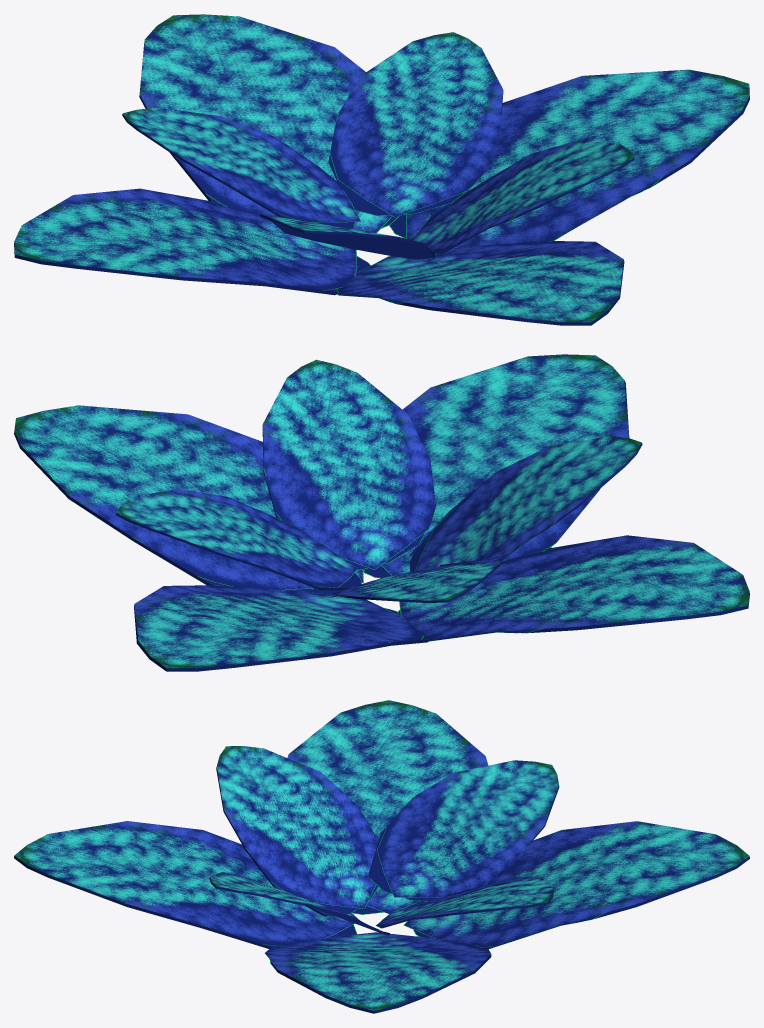
The model's file is Veg2.FBX.
The picture shows the model from 3 angles, top to bottom: view 1: azimuth 30°, elevation 25°; view 2: azimuth 150°, elevation 25°; view 3: azimuth 270°, elevation 25°; orthographic projection. The views are drawn at different scales.
Parts seen in each view (by area): view 1: Plane004, Plane007, Plane002, Plane003, Plane001, Plane005, Plane006, Plane008; view 2: Plane006, Plane004, Plane003, Plane001, Plane002, Plane008, Plane007, Plane005; view 3: Plane001, Plane002, Plane008, Plane005, Plane003, Plane004, Plane007, Plane006.
Boxes of the visible parts, x1,y1,x2,y2 form: Plane004: [389, 69, 749, 247]; Plane007: [328, 32, 503, 217]; Plane002: [139, 14, 399, 232]; Plane003: [14, 188, 370, 295]; Plane001: [336, 241, 624, 325]; Plane005: [122, 107, 361, 228]; Plane006: [410, 140, 634, 254]; Plane008: [260, 214, 435, 259]; Plane006: [262, 359, 436, 570]; Plane004: [14, 405, 364, 595]; Plane003: [397, 535, 749, 641]; Plane001: [363, 354, 629, 578]; Plane002: [134, 585, 428, 671]; Plane008: [409, 435, 642, 571]; Plane007: [116, 488, 361, 590]; Plane005: [329, 556, 500, 603]; Plane001: [14, 821, 359, 948]; Plane002: [404, 821, 749, 949]; Plane008: [216, 746, 378, 916]; Plane005: [368, 760, 559, 901]; Plane003: [287, 700, 488, 914]; Plane004: [265, 932, 491, 1013]; Plane007: [376, 876, 554, 928]; Plane006: [209, 871, 389, 934].
Bounding box in the file's own units: 2.38 × 0.4013 × 2.38.
